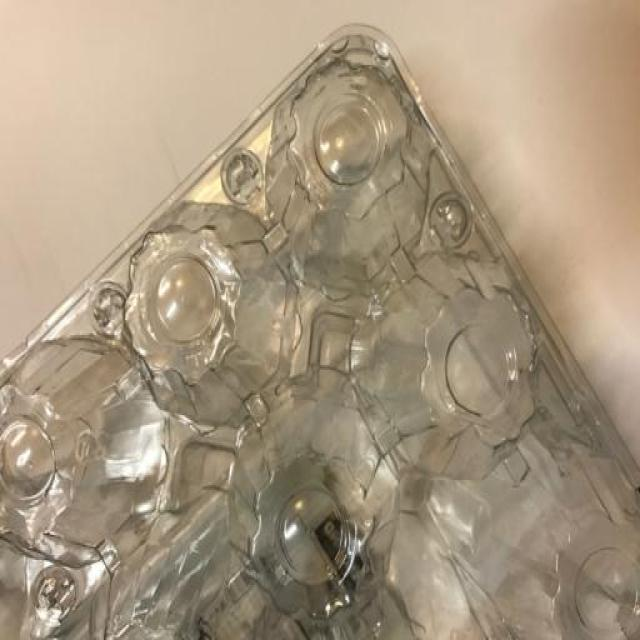Plastic: (0, 22, 640, 640)
